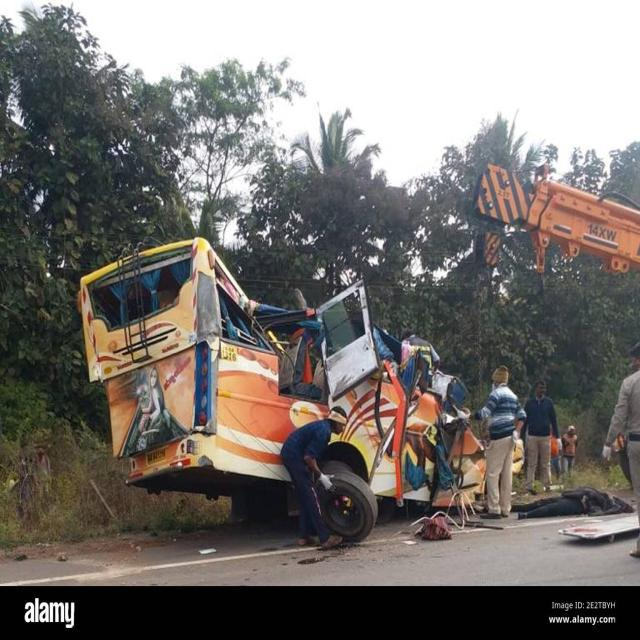accident: (79, 237, 485, 541)
